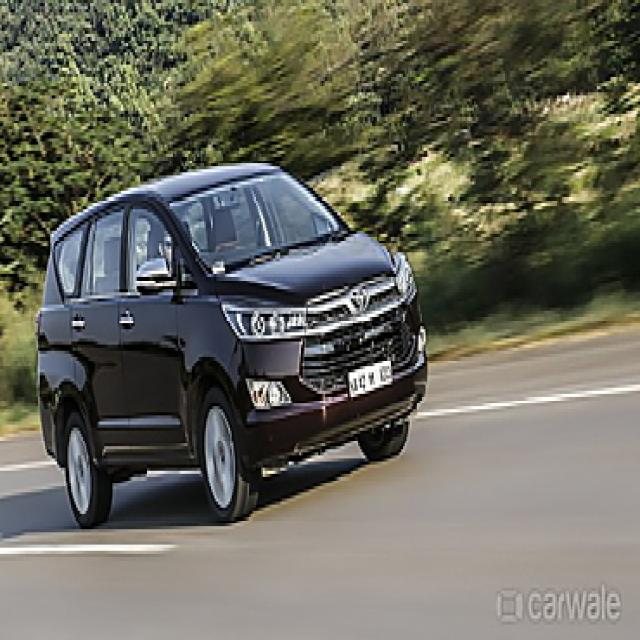light_vehicle: (35, 162, 429, 530)
